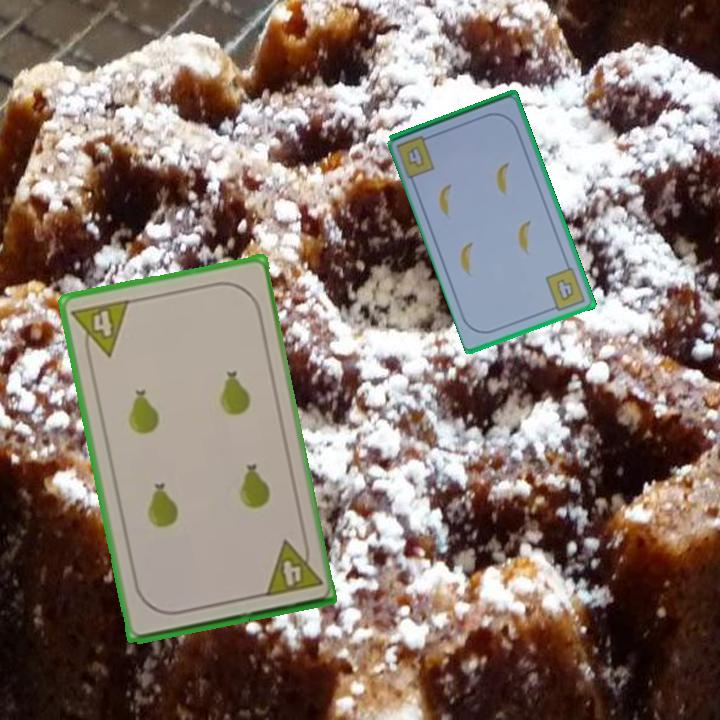4b: (542, 264, 588, 314), (403, 142, 427, 171)
4p: (68, 296, 133, 363), (260, 534, 325, 600)
